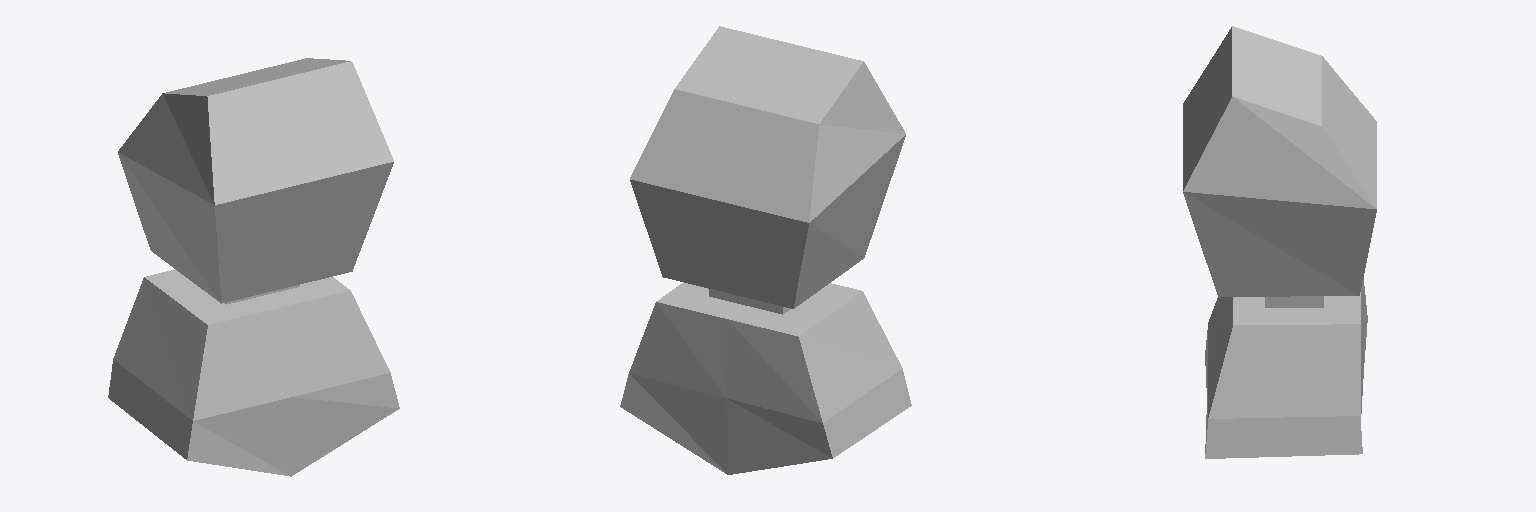
The model's file is bust.obj.
The picture shows the model from 3 angles: view 1: azimuth 30°, elevation 25°; view 2: azimuth 150°, elevation 25°; view 3: azimuth 270°, elevation 25°; orthographic projection.
Visible parts, largest first — view 1: Object_10_Cube.004_Material.003_0, Object_7_Cube.004_Material.002_0; view 2: Object_10_Cube.004_Material.003_0, Object_7_Cube.004_Material.002_0, Object_11_Cube.004_Material.019_0; view 3: Object_10_Cube.004_Material.003_0, Object_7_Cube.004_Material.002_0, Object_11_Cube.004_Material.019_0.
Boxes of the visible parts, x1=… form: Object_10_Cube.004_Material.003_0: x1=118, y1=58, x2=393, y2=303; Object_7_Cube.004_Material.002_0: x1=108, y1=269, x2=399, y2=476; Object_10_Cube.004_Material.003_0: x1=630, y1=26, x2=905, y2=308; Object_7_Cube.004_Material.002_0: x1=620, y1=282, x2=911, y2=474; Object_11_Cube.004_Material.019_0: x1=709, y1=289, x2=789, y2=314; Object_10_Cube.004_Material.003_0: x1=1183, y1=26, x2=1376, y2=296; Object_7_Cube.004_Material.002_0: x1=1205, y1=278, x2=1367, y2=458; Object_11_Cube.004_Material.019_0: x1=1265, y1=296, x2=1323, y2=307.
Bounding box in the file's own units: 2.6 × 4.54 × 2.05.